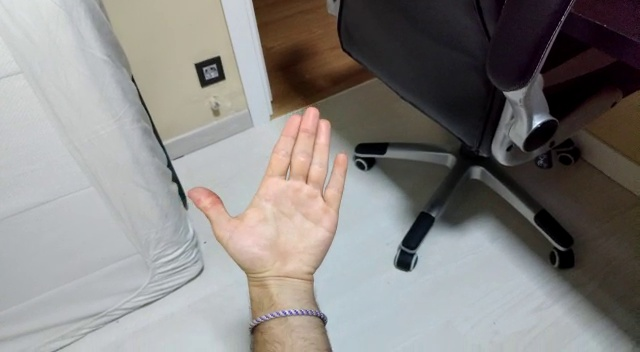Palm: (187, 103, 350, 286)
